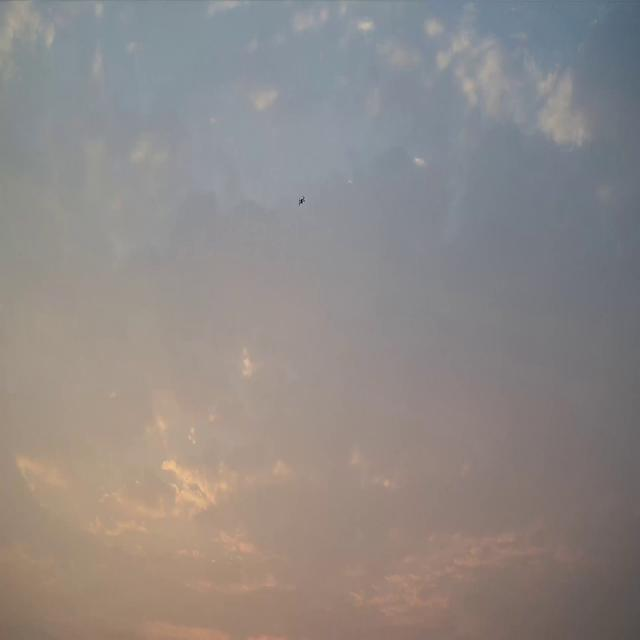UAV: (298, 193, 306, 206)
